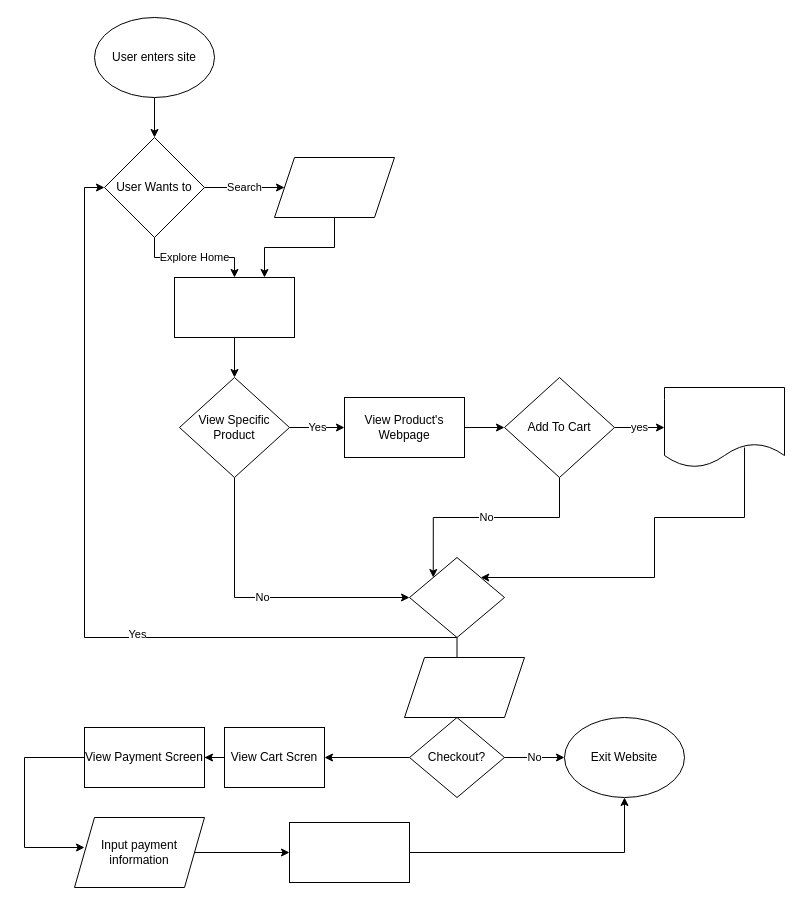
The diagram is 802 pixels wide and 905 high, and some of its shapes have lost their labels. The box of each missing label's shape, as (x1, y1, x2, y2) in pixels:
Added To Cart Notification: (664, 386, 784, 468)
Continue Shopping: (408, 556, 504, 638)
Get Search Input: (274, 156, 394, 218)
Order Confirmation and receive email: (288, 822, 410, 882)
User Looks over products: (174, 276, 294, 338)
